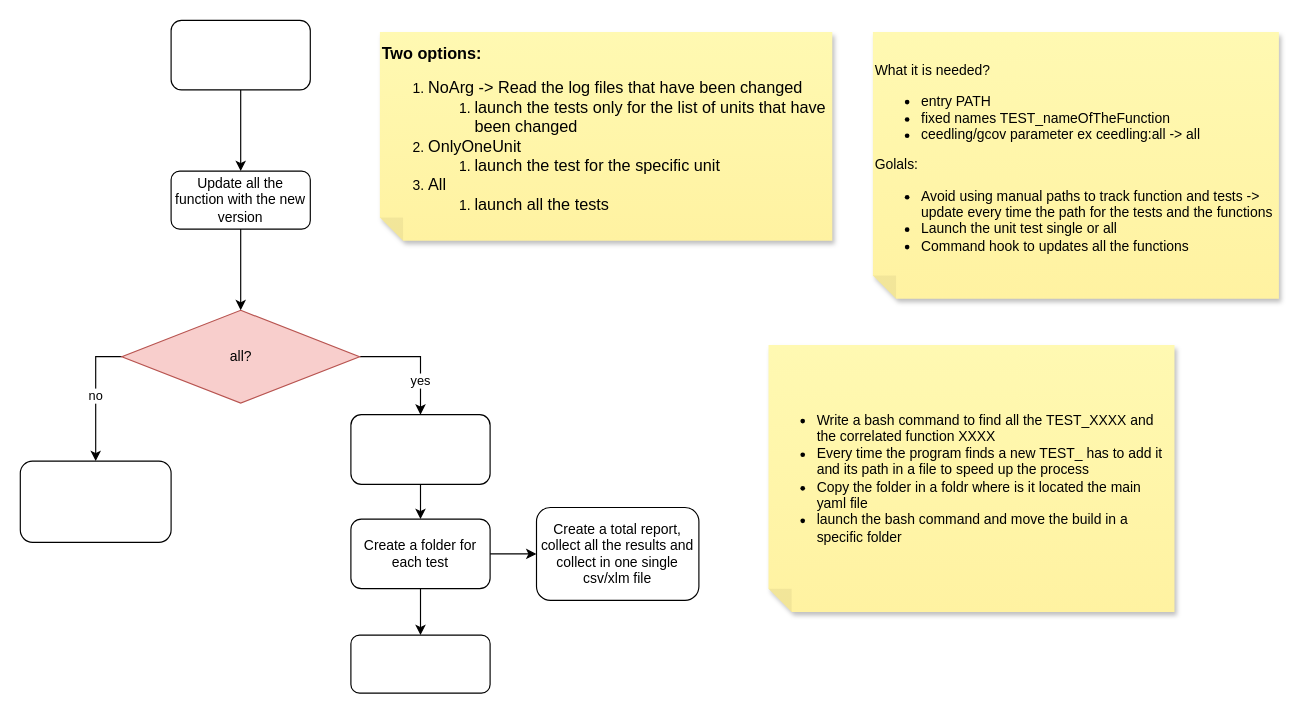
The diagram is 1306 pixels wide and 713 high, and some of its shapes have lost their labels. The shapes that lost their labels are listed below. From the top down, each one's centre as x and y in pixels, then its label:
At (240,54): "gcov test:all/test:singleTest".
At (420,449): "Run all the test one at the time".
At (95,501): "Run the single test for the list of the functions".
At (420,663): "Zip all the folder".
